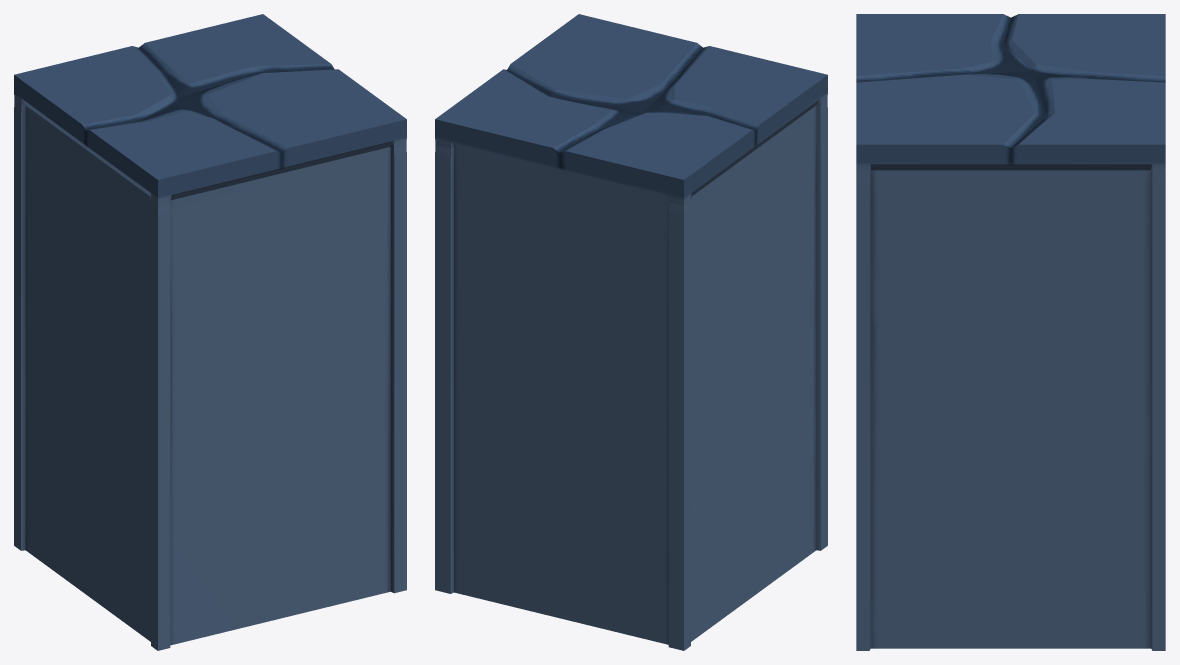
File: TileV1Tall.fbx
3 views of the same model, side by side, from view 1: azimuth 30°, elevation 25°; view 2: azimuth 150°, elevation 25°; view 3: azimuth 270°, elevation 25° (orthographic). The views are drawn at different scales.
Parts seen in each view (by area): view 1: tile; view 2: tile; view 3: tile.
Boxes of the visible parts, x1,y1,x2,y2 form: tile: [14, 14, 406, 650]; tile: [435, 14, 827, 650]; tile: [856, 14, 1165, 650].
Size of the model in its own units: 5 by 9.04 by 5.
